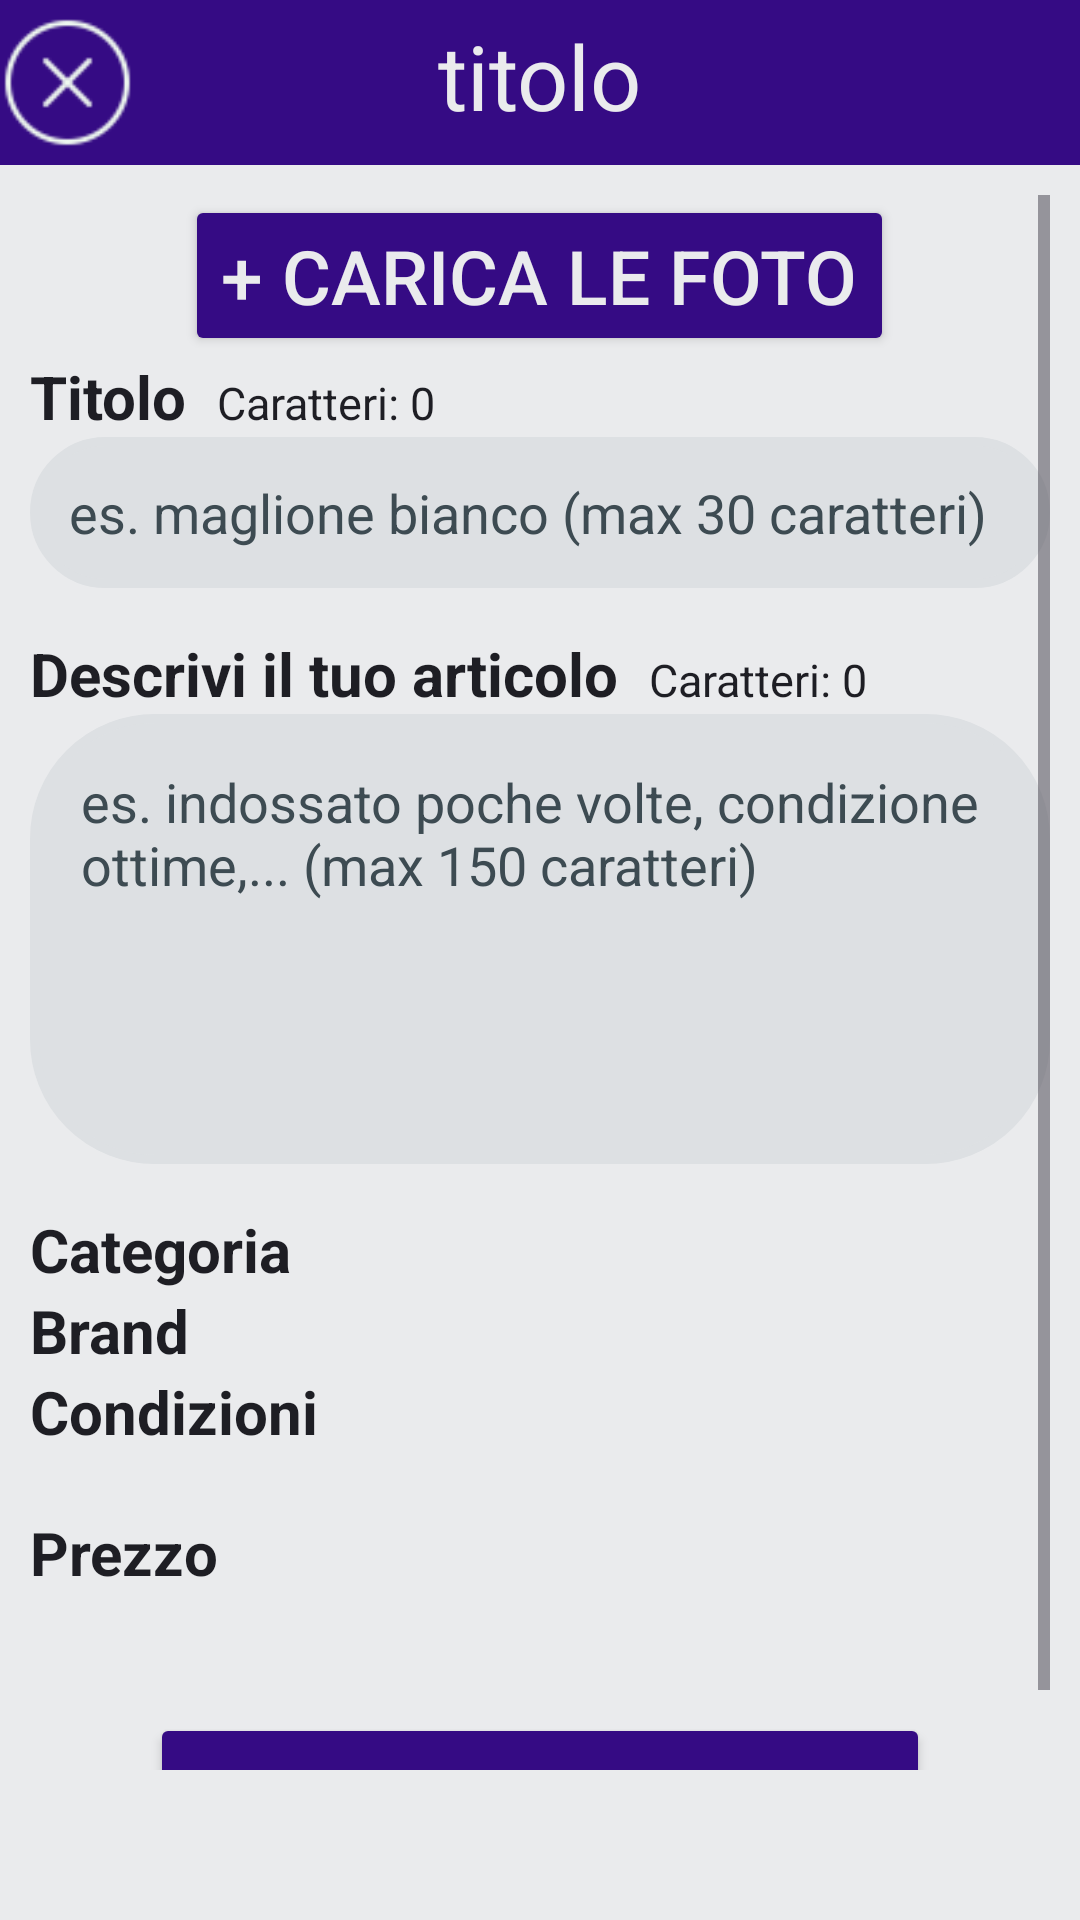

Icon bounding boxes for this 1080px x 1920px phone screenshot, format (x1, y1, x2, y2):
cancel: (4, 19, 131, 146)
